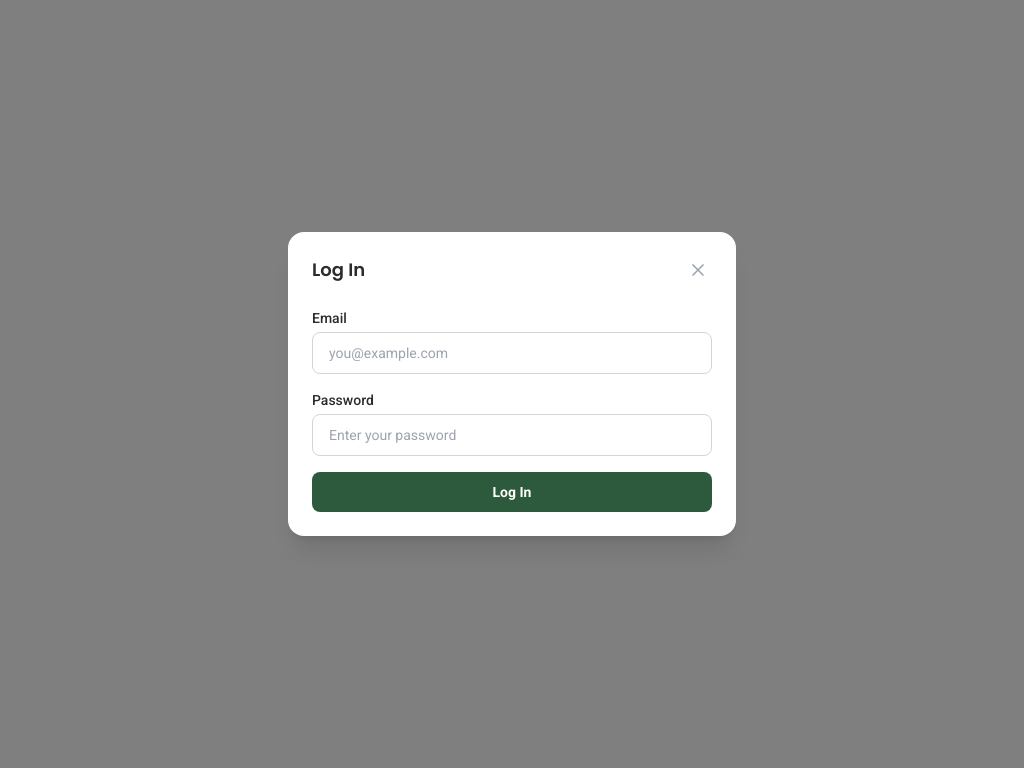
Test: LoginModal › shows validation error for invalid email format
The width and height of the screenshot is (1024, 768).
Step 1. Type "password123" into the password field labelled "Password" → point(512, 435), box top-left (312, 414), bottom-right (712, 456)
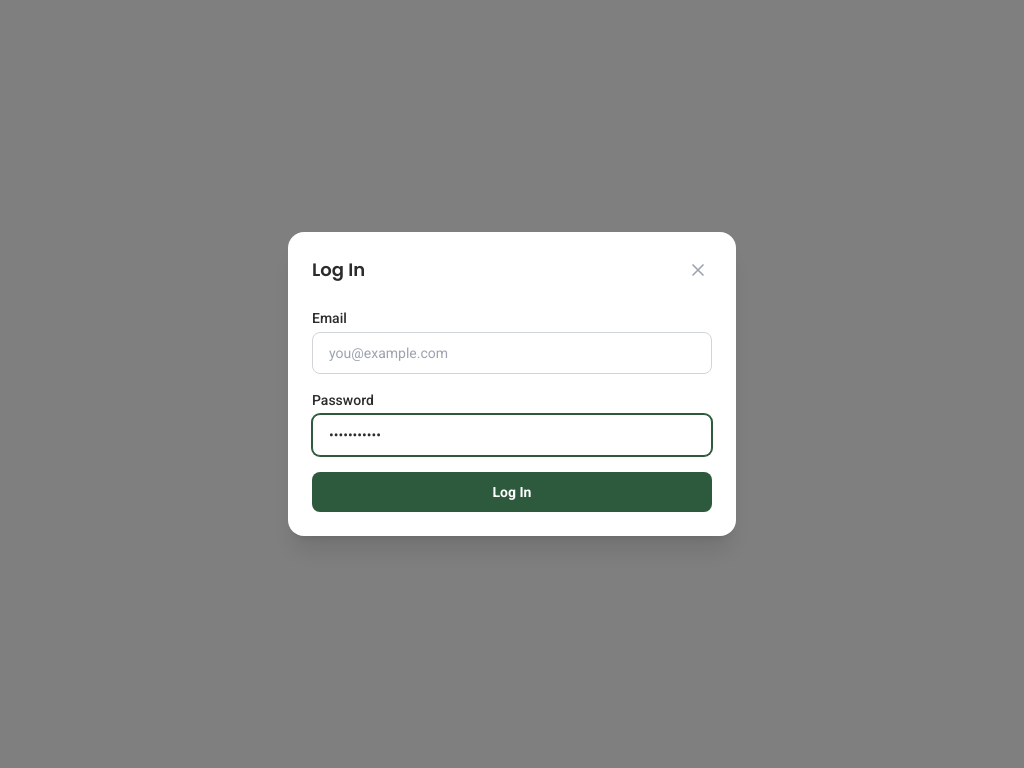
Step 2. Click the button "Log In" → point(512, 492), box top-left (312, 472), bottom-right (712, 512)
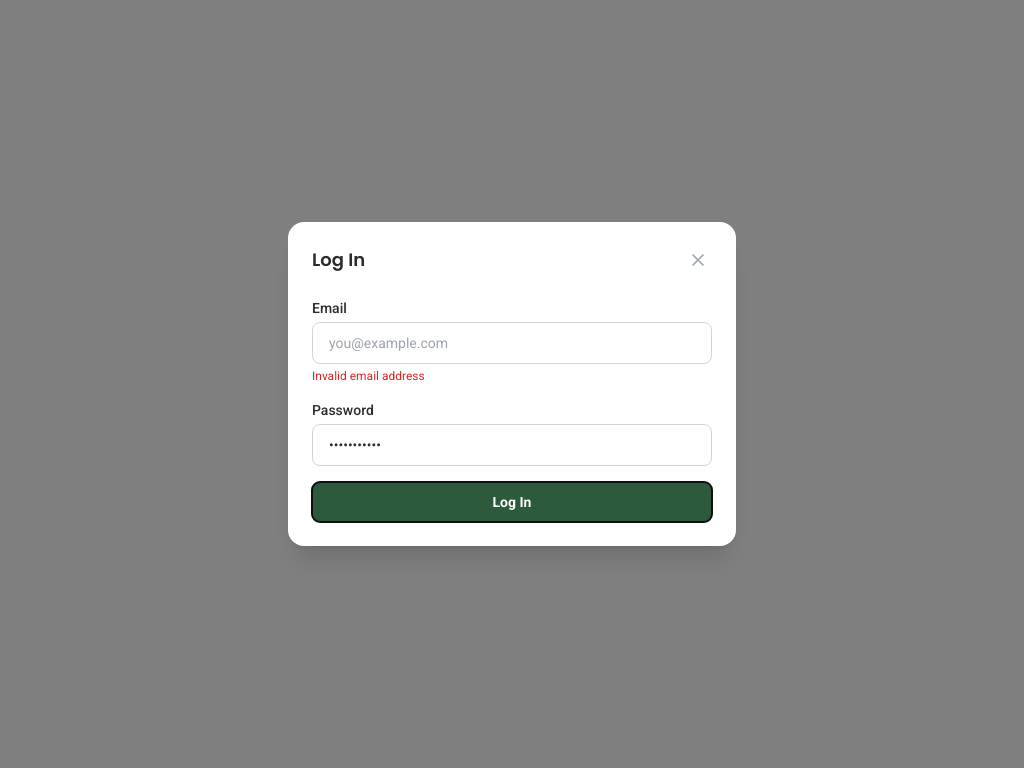
Result: the text "Invalid email address" is shown at top-left (312, 369), bottom-right (425, 383)
